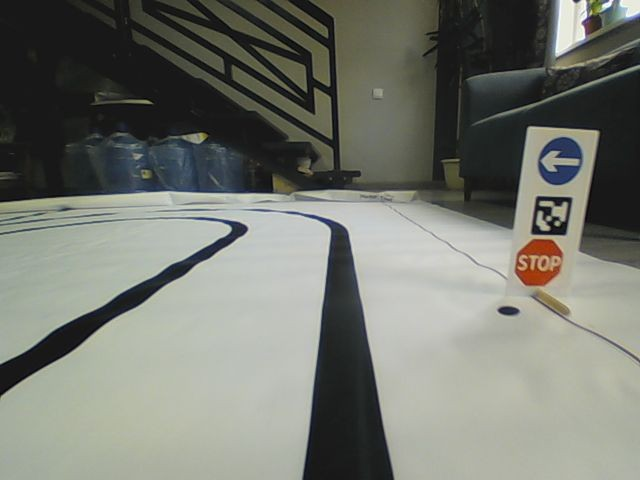Stop: (514, 239, 565, 288)
